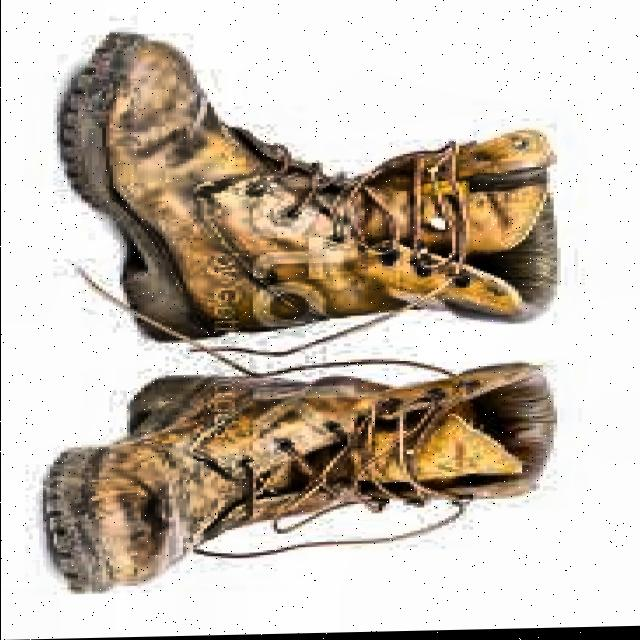shoes: (41, 18, 573, 596)
